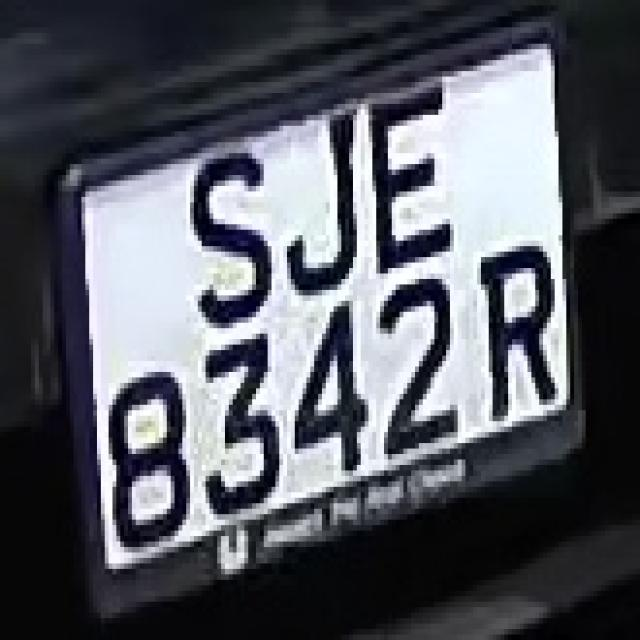2: (364, 274, 466, 471)
3: (190, 344, 279, 530)
4: (272, 312, 376, 492)
8: (97, 361, 206, 558)
E: (364, 71, 466, 295)
J: (284, 76, 372, 312)
R: (470, 229, 562, 426)
S: (175, 126, 279, 339)
